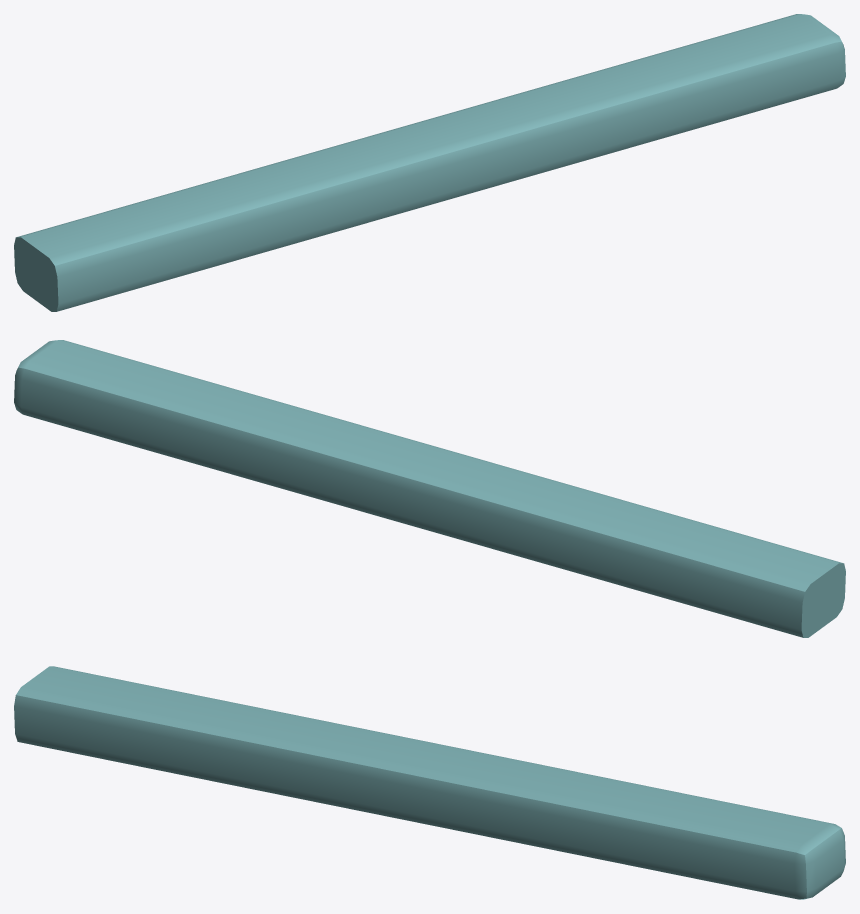
The model's file is SmallHand_cleaned.fbx.
3 renders of one model, top to bottom at view 1: azimuth 30°, elevation 25°; view 2: azimuth 150°, elevation 25°; view 3: azimuth 330°, elevation 25°, orthographic.
Parts seen in each view (by area): view 1: polySurface16; view 2: polySurface16; view 3: polySurface16.
Boxes of the visible parts, left/top/right/bottom form: polySurface16: left=14, top=14, right=845, bottom=311; polySurface16: left=14, top=340, right=845, bottom=637; polySurface16: left=14, top=666, right=845, bottom=899.
Bounding box in the file's own units: 0.4155 × 0.0435 × 0.0393.
